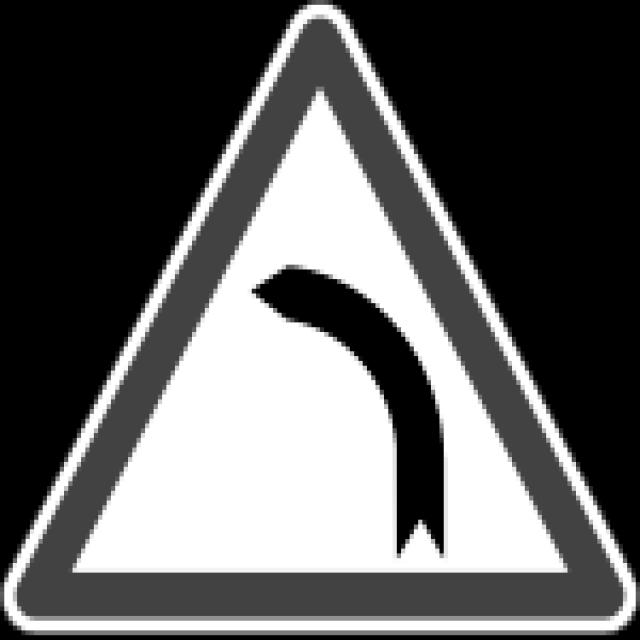turn_danger: (1, 1, 640, 640)
